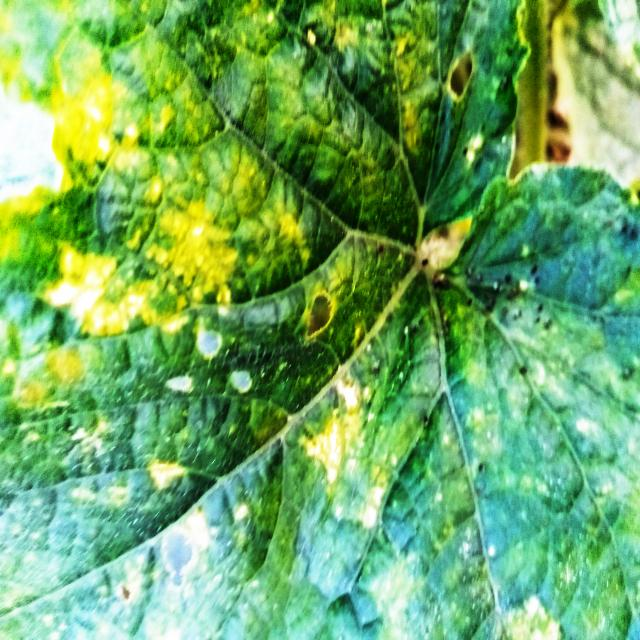Downy-Mildew: (0, 2, 640, 640)
